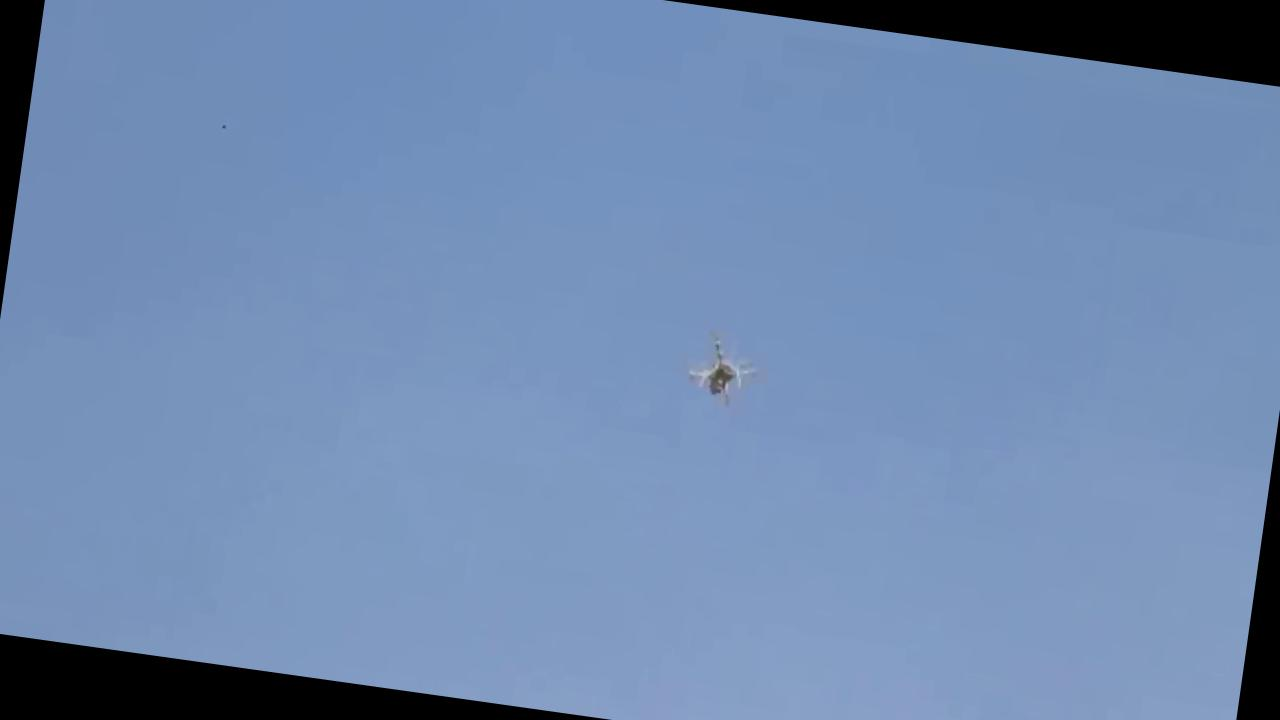drone: (669, 312, 780, 424)
